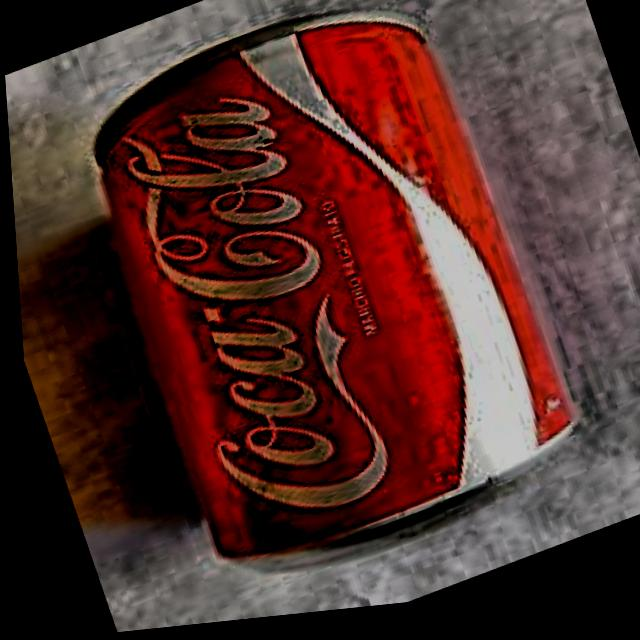Cans: (39, 0, 614, 634)
